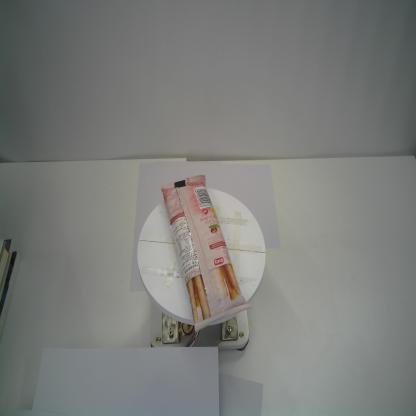Dessert: (160, 174, 252, 333)
